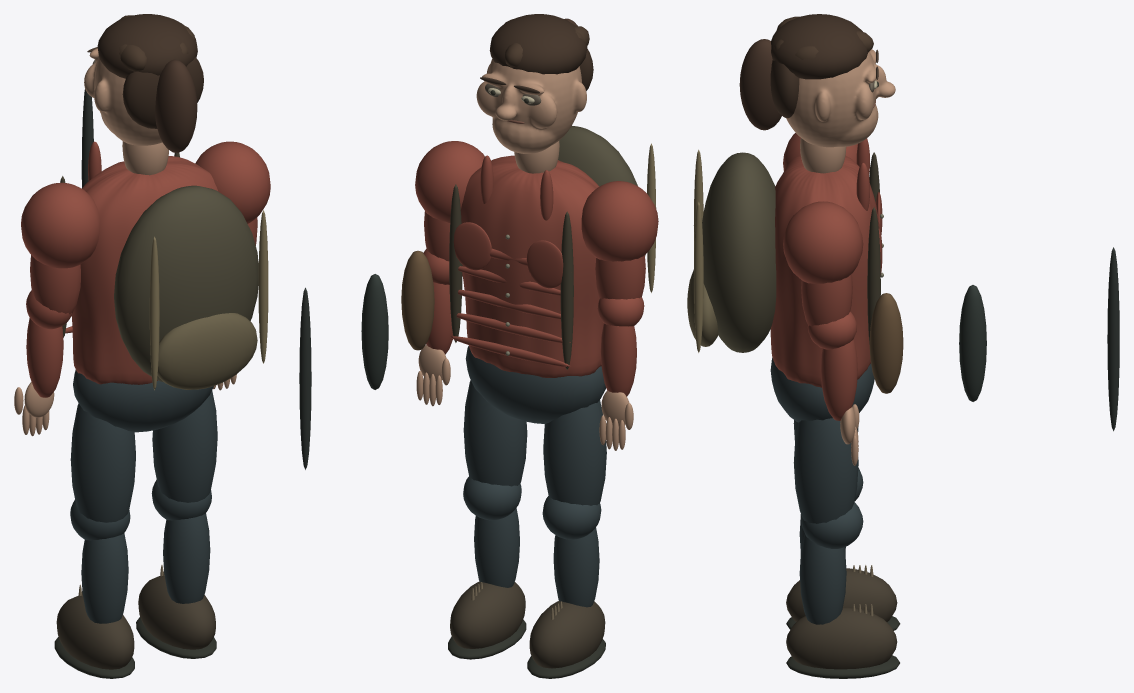
Rendered from mara.glb.
3 renders of one model, left to right at view 1: azimuth 30°, elevation 25°; view 2: azimuth 150°, elevation 25°; view 3: azimuth 270°, elevation 25°, orthographic. The views are drawn at different scales.
Visible parts, largest first — view 1: backpack.001, torso.001, thigh.002, pack_pocket.001, shoulder.002, thigh.003, pelvis.001, hair.001, boot.002, boot.003, calf.002, calf.003 (+18 smaller); view 2: torso.001, sculpted_face.001, pelvis.001, thigh.002, shoulder.002, thigh.003, hair.001, boot.003, boot.002, shoulder.003, calf.002, calf.003 (+27 smaller); view 3: backpack.001, torso.001, sculpted_face.001, thigh.003, shoulder.003, boot.003, hair.001, calf.003, stock.001, receiver.001, ponytail, pelvis.001 (+12 smaller).
Part boxes in pixels (box(x1,y1,x2,y2)): backpack.001: box(114, 185, 258, 382); torso.001: box(71, 156, 217, 384); thigh.002: box(70, 403, 135, 522); pack_pocket.001: box(157, 313, 257, 389); shoulder.002: box(21, 182, 99, 268); thigh.003: box(152, 390, 217, 502); pelvis.001: box(73, 369, 213, 432); hair.001: box(97, 14, 197, 78); boot.002: box(56, 595, 134, 669); boot.003: box(138, 576, 215, 649); calf.002: box(81, 533, 128, 623); calf.003: box(163, 513, 210, 603); torso.001: box(460, 155, 603, 377); sculpted_face.001: box(476, 59, 586, 153); pelvis.001: box(465, 346, 605, 423); thigh.002: box(543, 400, 606, 505); shoulder.002: box(581, 181, 658, 261); thigh.003: box(463, 380, 527, 486); hair.001: box(489, 14, 587, 74); boot.003: box(450, 581, 525, 648); boot.002: box(529, 601, 605, 668); shoulder.003: box(415, 141, 484, 222); calf.002: box(553, 527, 599, 607); calf.003: box(474, 508, 519, 587); backpack.001: box(702, 152, 776, 352); torso.001: box(770, 155, 879, 387); sculpted_face.001: box(786, 49, 895, 147); thigh.003: box(793, 418, 858, 523); shoulder.003: box(783, 201, 863, 283); boot.003: box(786, 607, 897, 669); hair.001: box(771, 14, 867, 79); calf.003: box(799, 533, 846, 624); stock.001: box(869, 293, 903, 393); receiver.001: box(959, 285, 986, 401); ponytail: box(739, 39, 781, 130); pelvis.001: box(770, 357, 874, 422).
Size of the model in its own units: 0.88 by 2.26 by 1.4.
